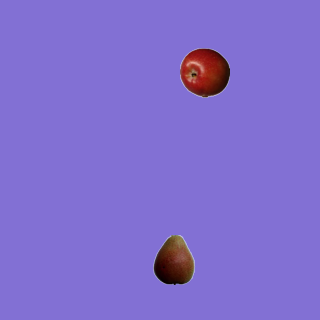Apple Braeburn: (179, 47, 229, 97)
Pear Forelle: (148, 234, 198, 284)
